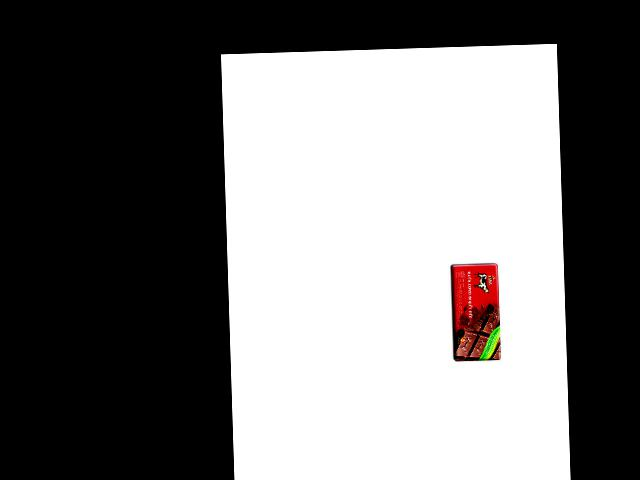chocolate: (446, 260, 502, 361)
